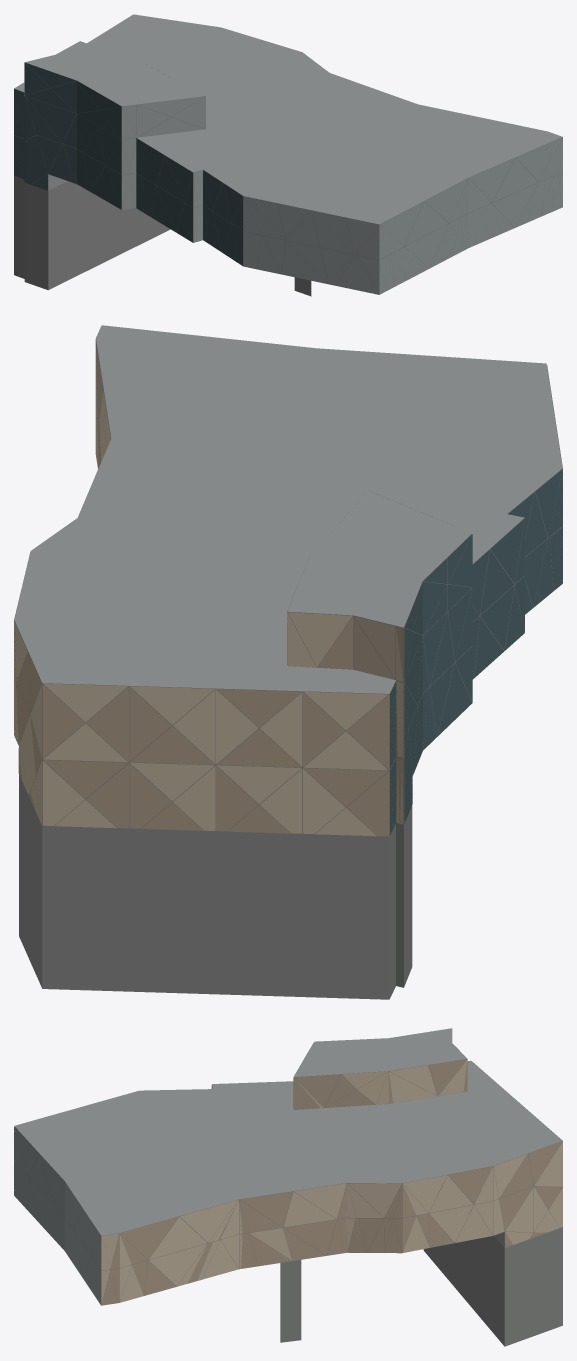
Rendered from federation-805928.glb.
The picture shows the model from 3 angles, top to bottom: view 1: azimuth 30°, elevation 25°; view 2: azimuth 150°, elevation 25°; view 3: azimuth 270°, elevation 25°; orthographic projection. The views are drawn at different scales.
Parts seen in each view (by area): view 1: structure_805928_clean_envelope, federation_east_panels_2, federation_east_panels_3; view 2: structure_805928_clean_envelope, federation_east_panels_0, federation_east_panels_1, federation_east_panels_3; view 3: structure_805928_clean_envelope, federation_east_panels_0, federation_east_panels_1, federation_east_panels_2.
Boxes of the visible parts, <box> form: structure_805928_clean_envelope: <box>14,14,562,296</box>; federation_east_panels_2: <box>48,96,562,294</box>; federation_east_panels_3: <box>14,62,242,265</box>; structure_805928_clean_envelope: <box>14,325,562,999</box>; federation_east_panels_0: <box>14,326,403,836</box>; federation_east_panels_1: <box>14,340,403,836</box>; federation_east_panels_3: <box>390,469,562,835</box>; structure_805928_clean_envelope: <box>14,1028,562,1346</box>; federation_east_panels_0: <box>101,1046,562,1304</box>; federation_east_panels_1: <box>101,1059,562,1305</box>; federation_east_panels_2: <box>14,1049,504,1304</box>.
Bounding box in the file's own units: 45.74 × 26.5 × 60.54.
